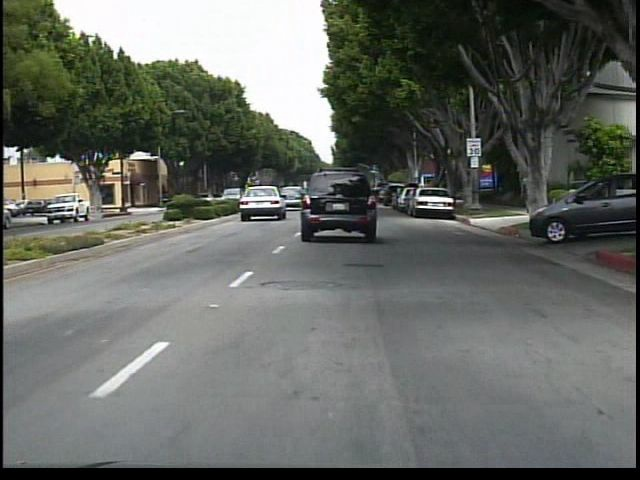person: (515, 170, 537, 216)
